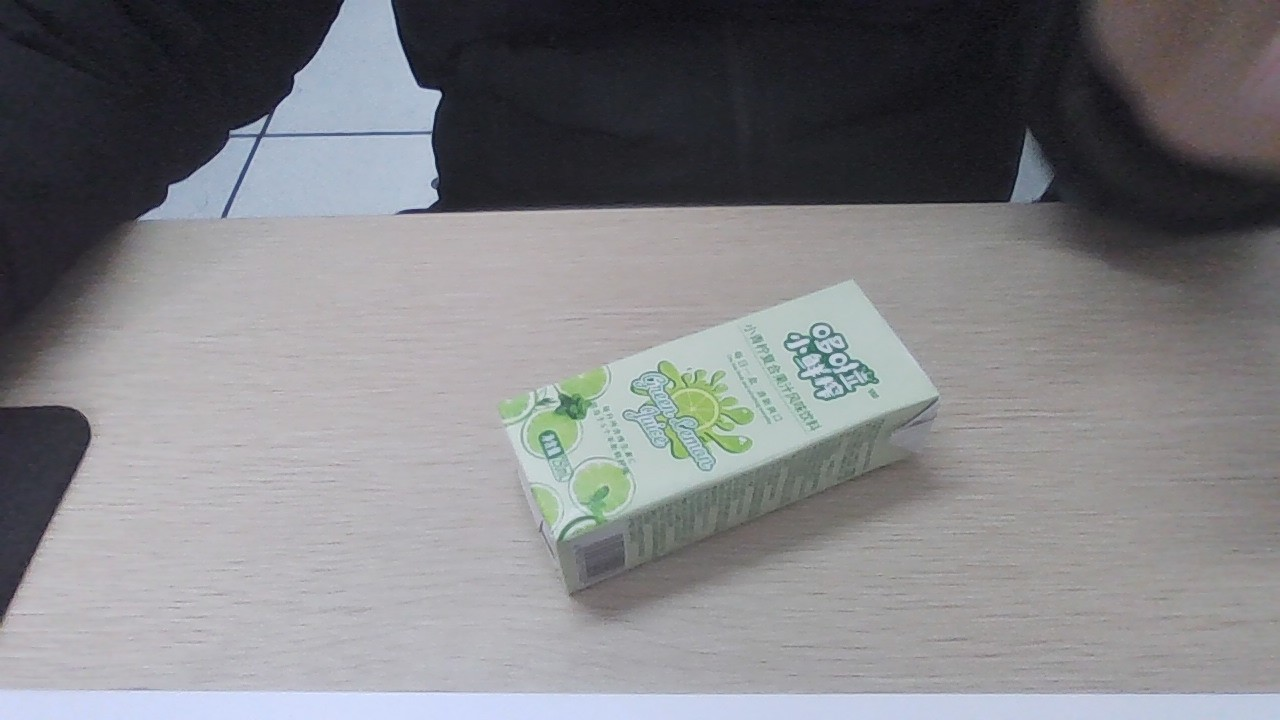CY-drink: (493, 286, 935, 560)
